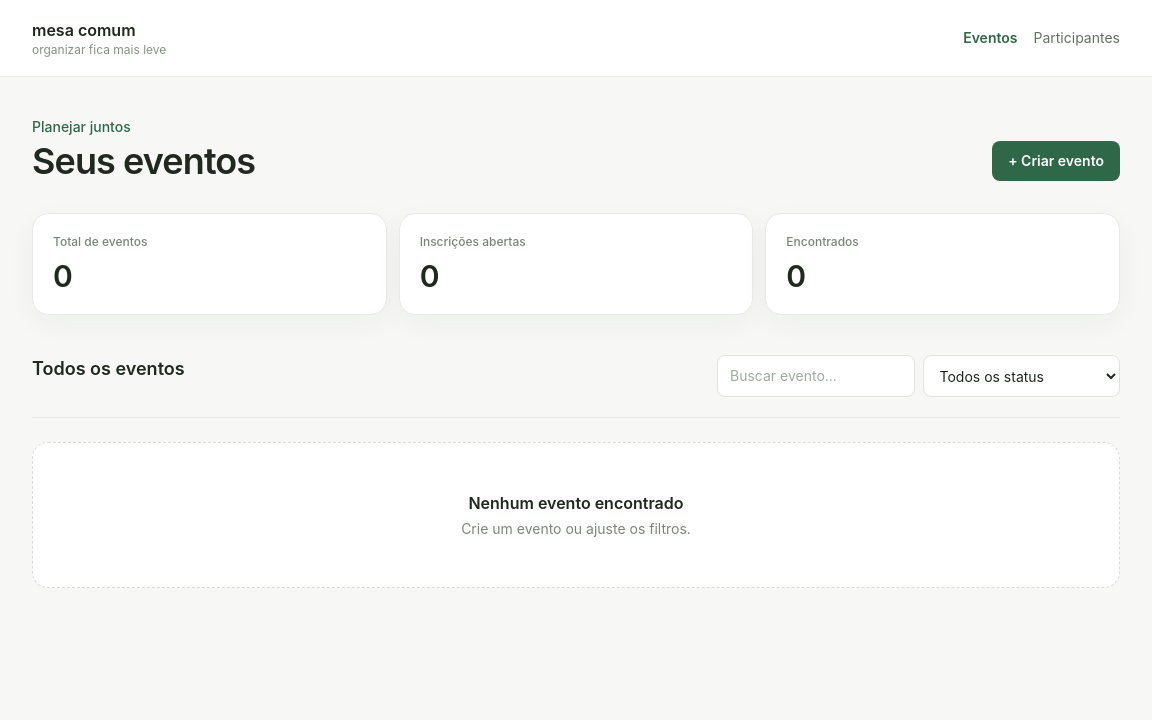
Test: EventosPage › impede prazo igual à data do evento
The width and height of the screenshot is (1152, 720).
Click the button "+ Criar evento" at x=1056, y=161, box [992,141,1120,181]
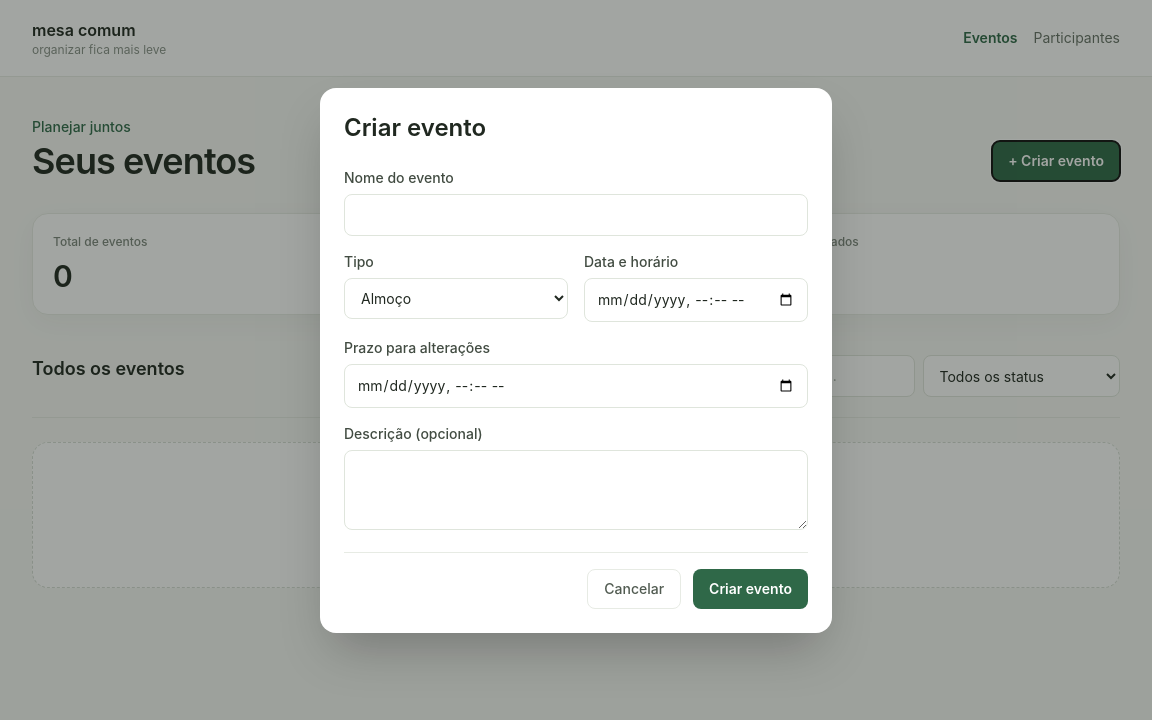
Type "Café da equipe" into the field labelled "Nome do evento" at x=576, y=214, box [344,194,808,236]
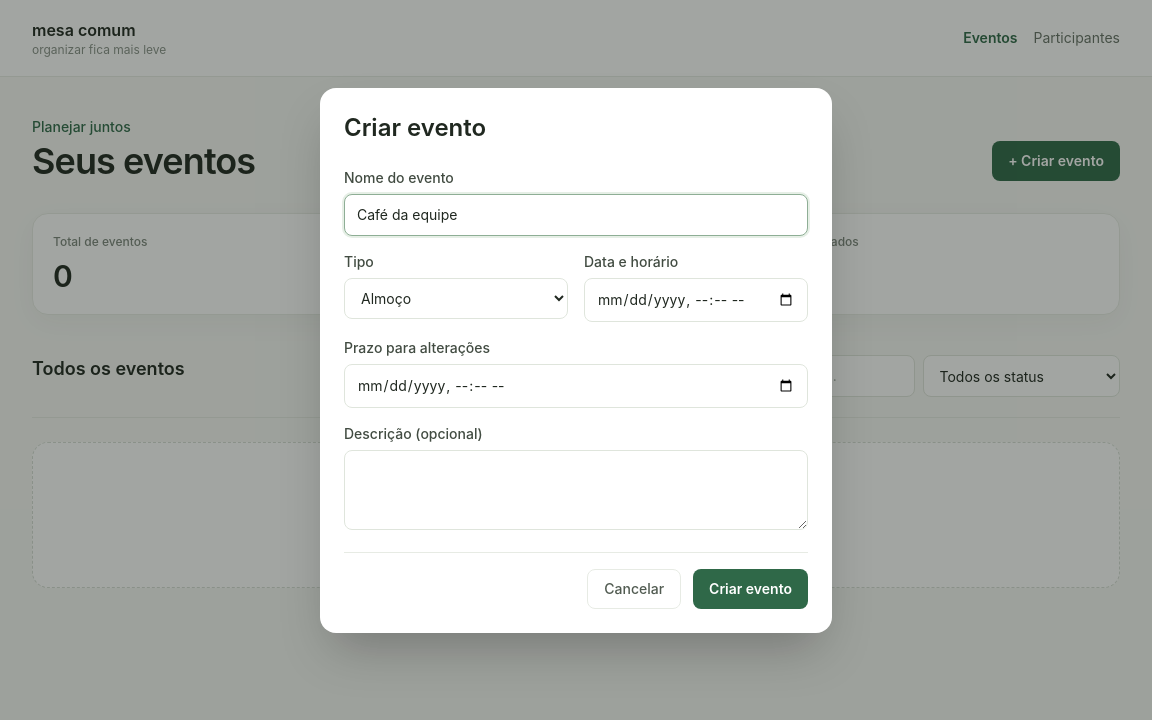
Type "2027-06-02T09:00" into the field labelled "Data e horário" at x=696, y=300, box [584,278,808,322]
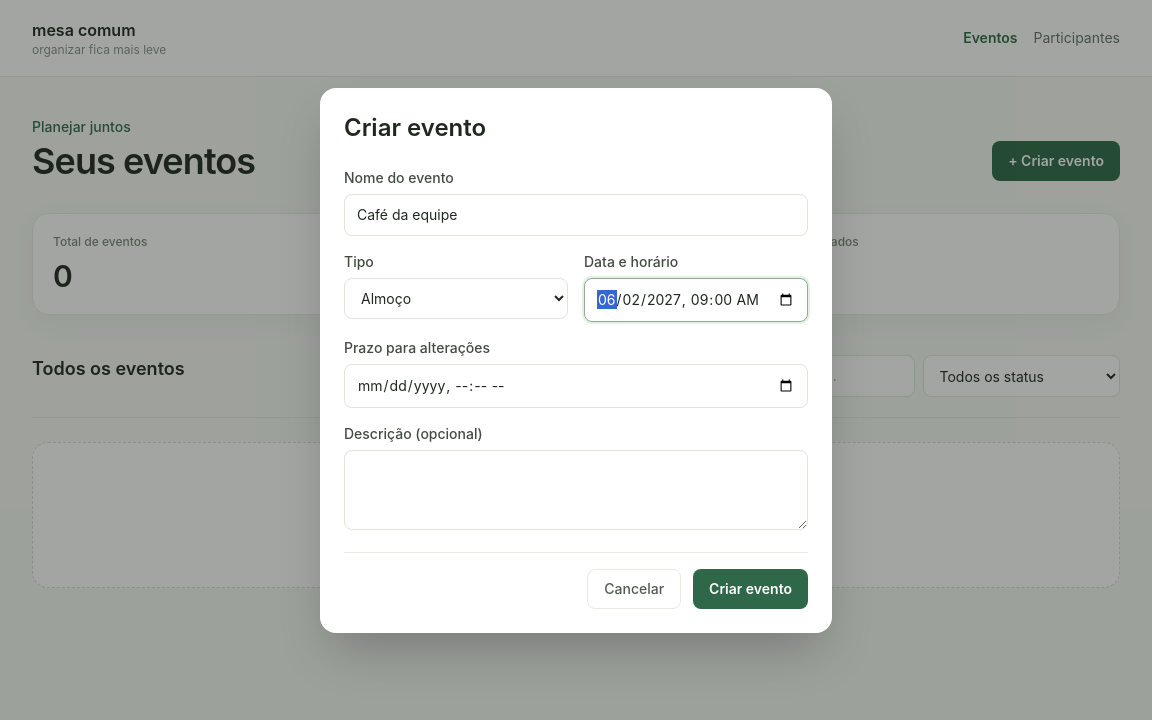
Type "2027-06-02T09:00" into the field labelled "Prazo para alterações" at x=576, y=386, box [344,364,808,408]
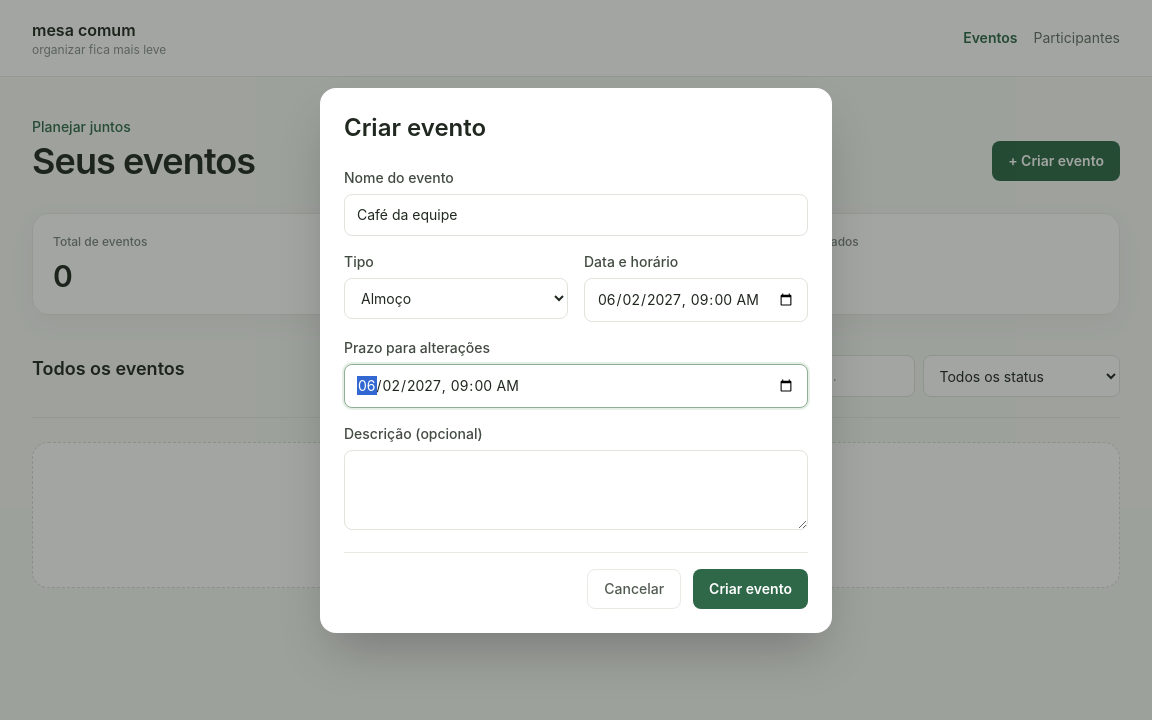
Click the button "Criar evento" at x=751, y=588, box [693,568,808,608]
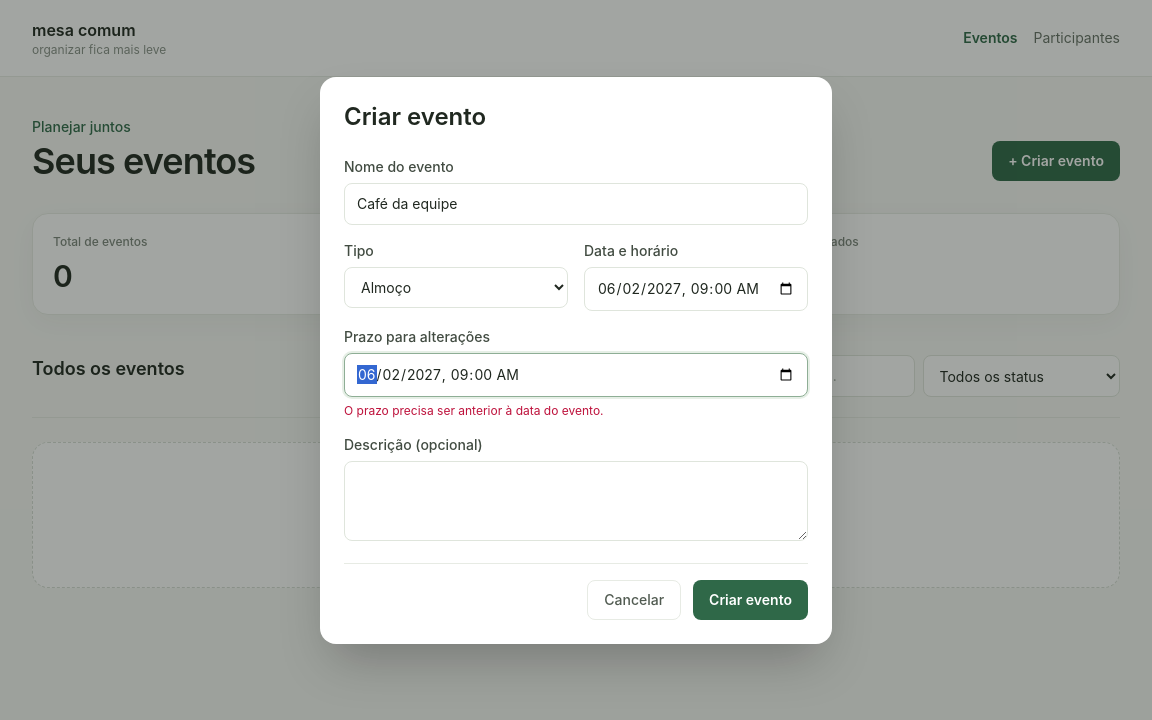
Expected: the text "O prazo precisa ser anterior à data do evento." is shown, [344,402,604,418]
